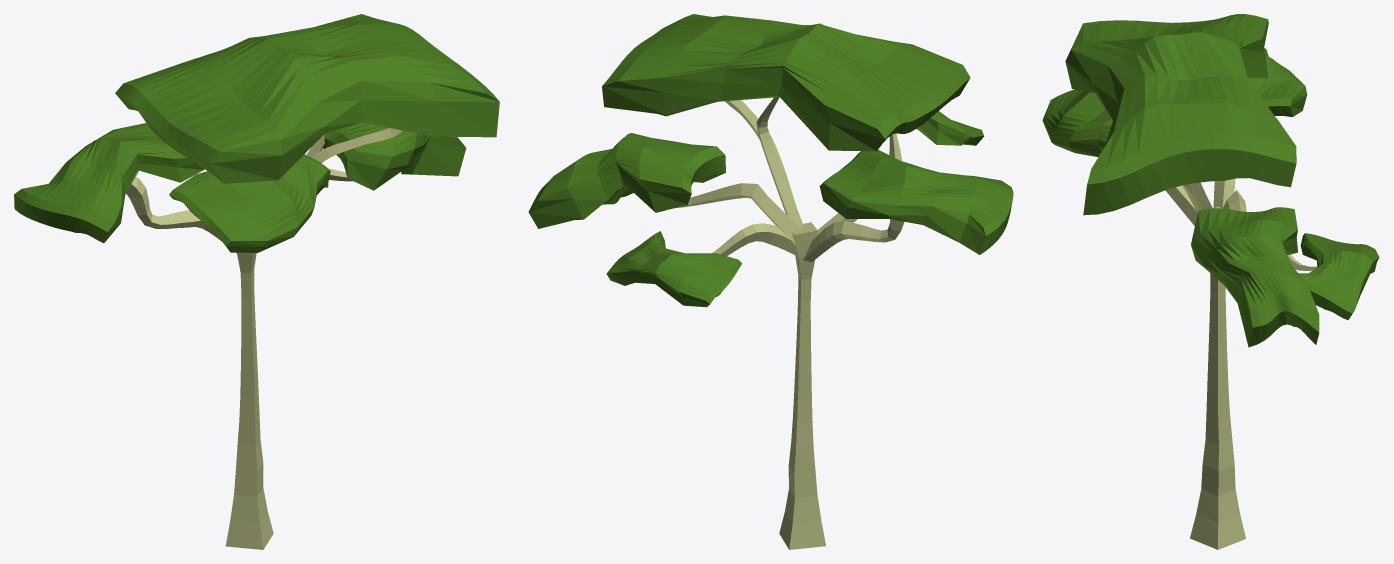
The model's file is Angelim_lvl10-15.glb.
3 views of the same model, side by side, from view 1: azimuth 30°, elevation 25°; view 2: azimuth 150°, elevation 25°; view 3: azimuth 270°, elevation 25° (orthographic). The views are drawn at different scales.
Parts seen in each view (by area): view 1: Angelim_lvl10-15; view 2: Angelim_lvl10-15; view 3: Angelim_lvl10-15.
Part boxes in pixels (x1,y1,x2,y2): Angelim_lvl10-15: (14,14,499,549); Angelim_lvl10-15: (528,14,1013,549); Angelim_lvl10-15: (1042,14,1379,549).
Bounding box in the file's own units: 0.2976 × 0.3219 × 0.1919.
